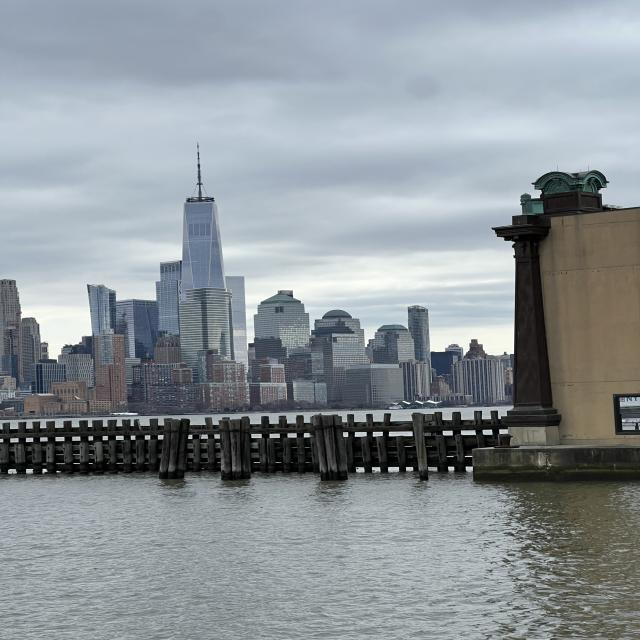WTC: (181, 141, 224, 290)
